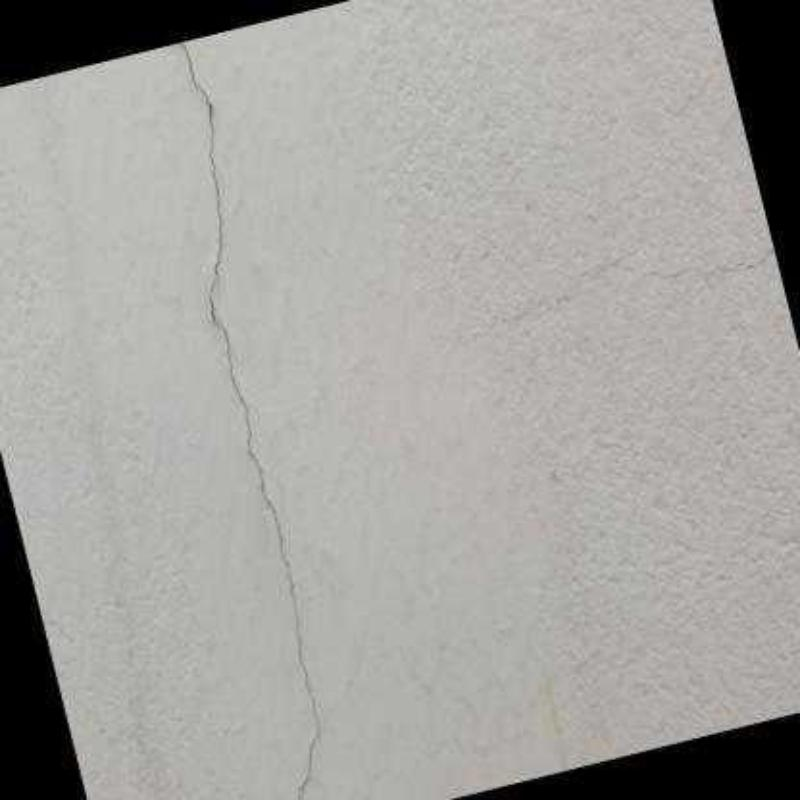crack: (179, 42, 320, 800)
